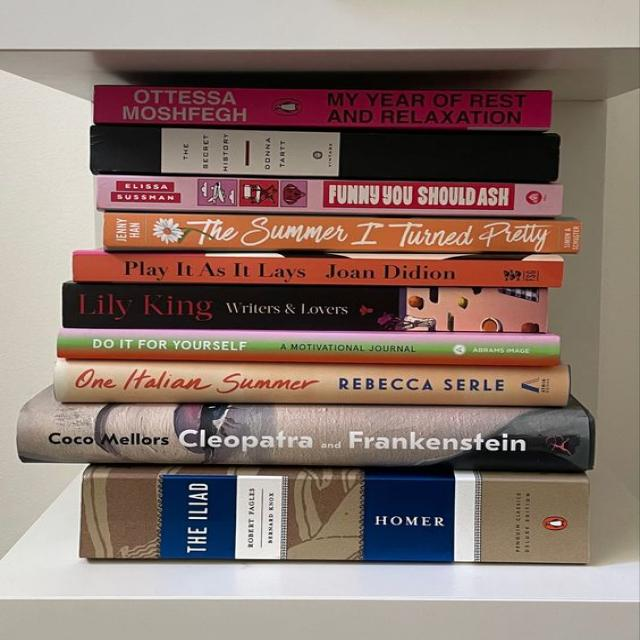book: (79, 477, 590, 564), (20, 406, 596, 472), (91, 124, 558, 181), (63, 283, 550, 333), (54, 360, 570, 407), (96, 84, 553, 128), (103, 212, 579, 252), (95, 176, 561, 216), (57, 331, 562, 366), (73, 254, 564, 288)
